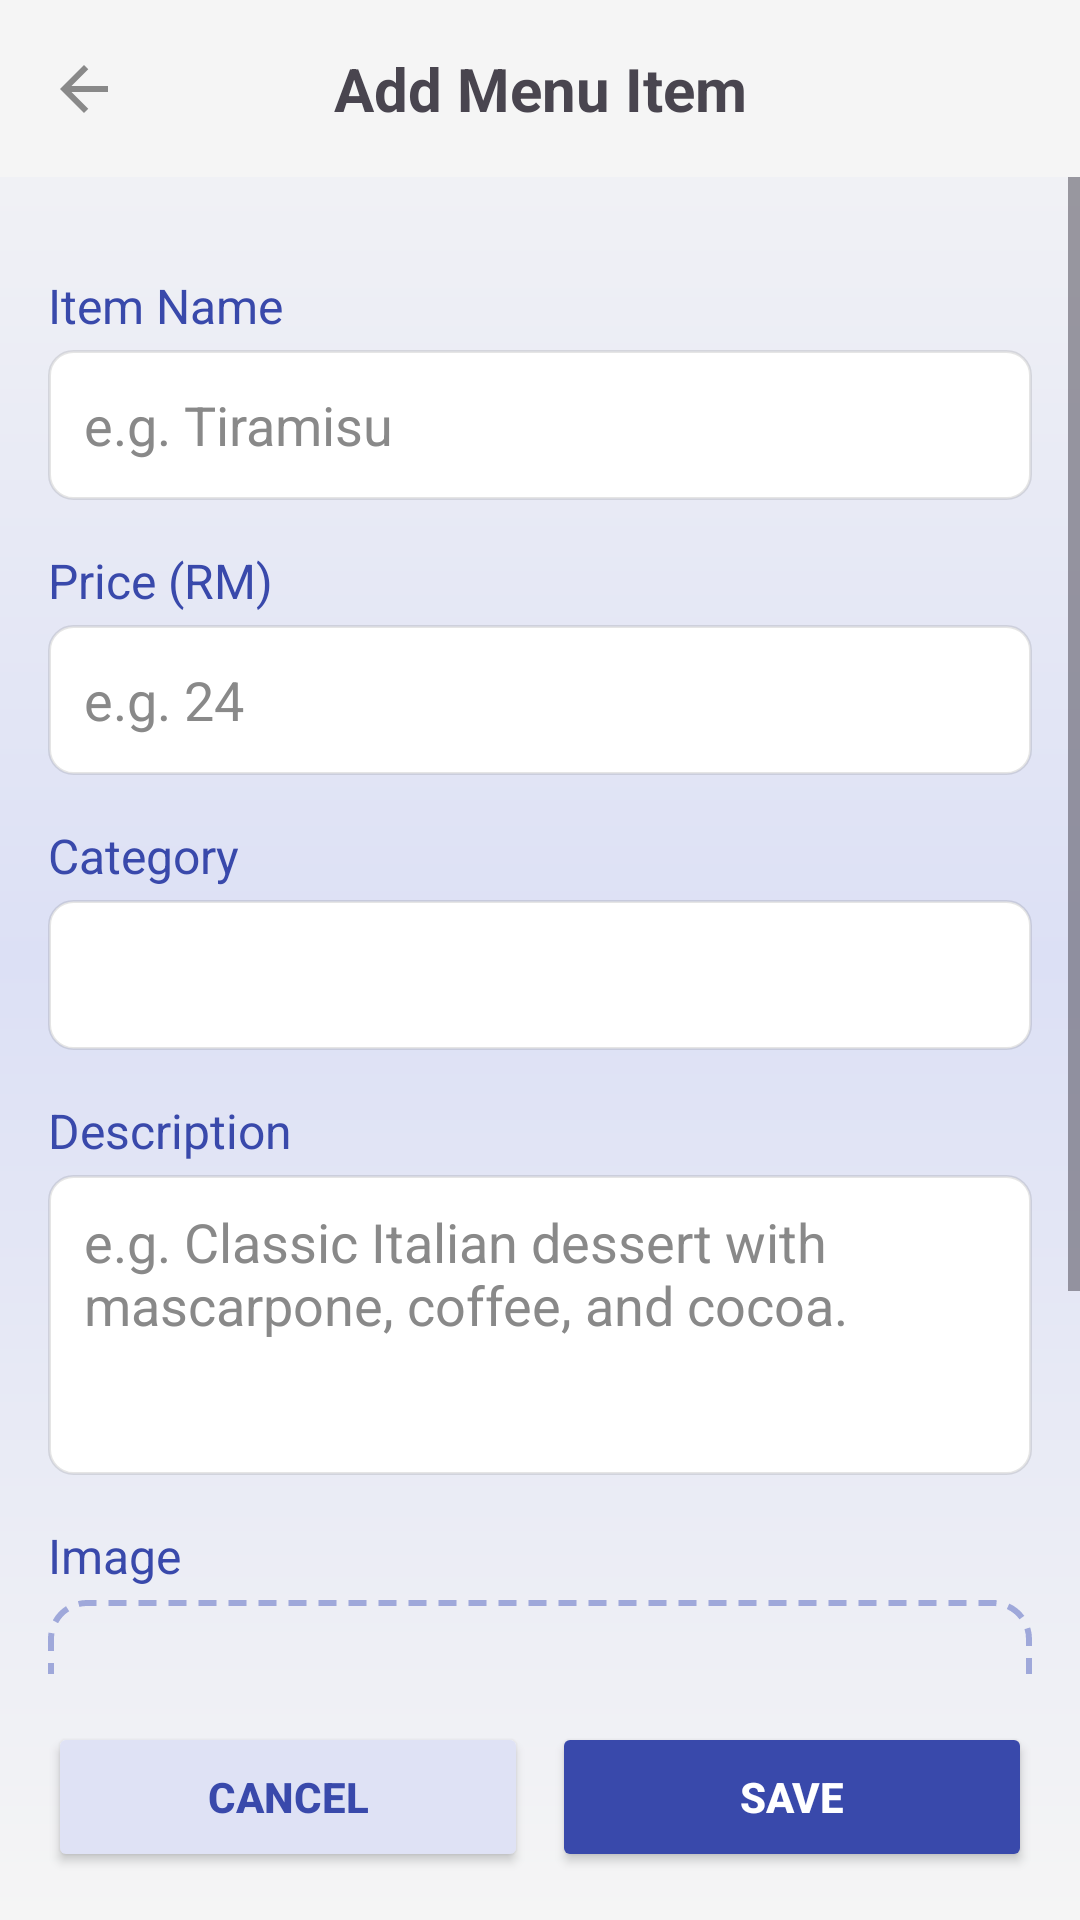

Icon click points for this 1080x1920 phone screenshot, format (x,y):
Back: (84,89)
